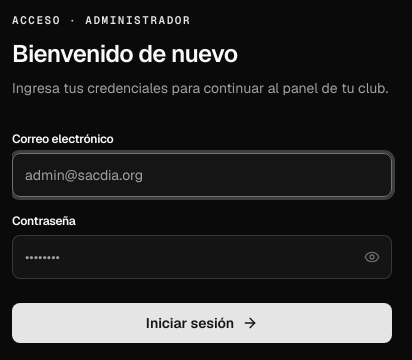
Scenario: LoginForm › toggles password visibility when eye button is clicked
The width and height of the screenshot is (412, 360).
// Click to reveal
Click the button named "Mostrar contraseña" at [372, 257], box [364, 249, 380, 265]
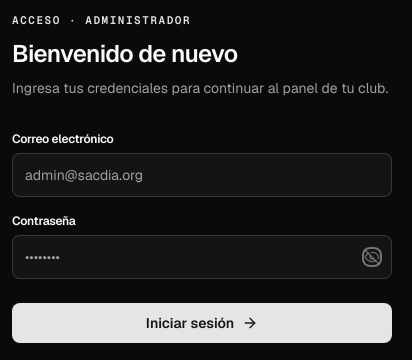
Now the button named "Ocultar contraseña" is shown
// Click to hide again
Click the button named "Ocultar contraseña" at [372, 257], box [364, 249, 380, 265]
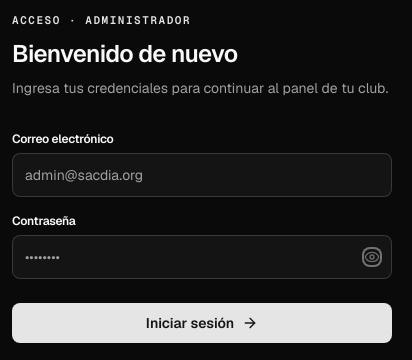
Now the button named "Mostrar contraseña" is shown, box [364, 249, 380, 265]
